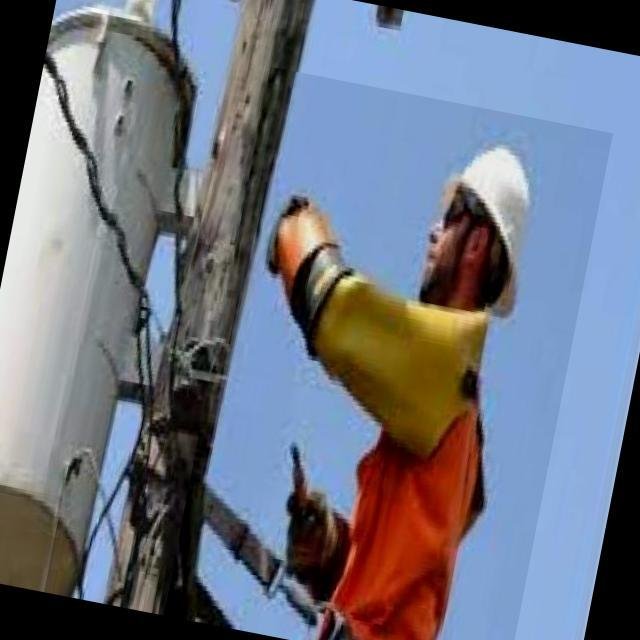Gloves: (269, 186, 363, 358), (276, 429, 362, 601)
Helmet: (422, 135, 550, 324)
Person: (249, 94, 581, 640)
Safety Vest: (272, 177, 503, 640)
